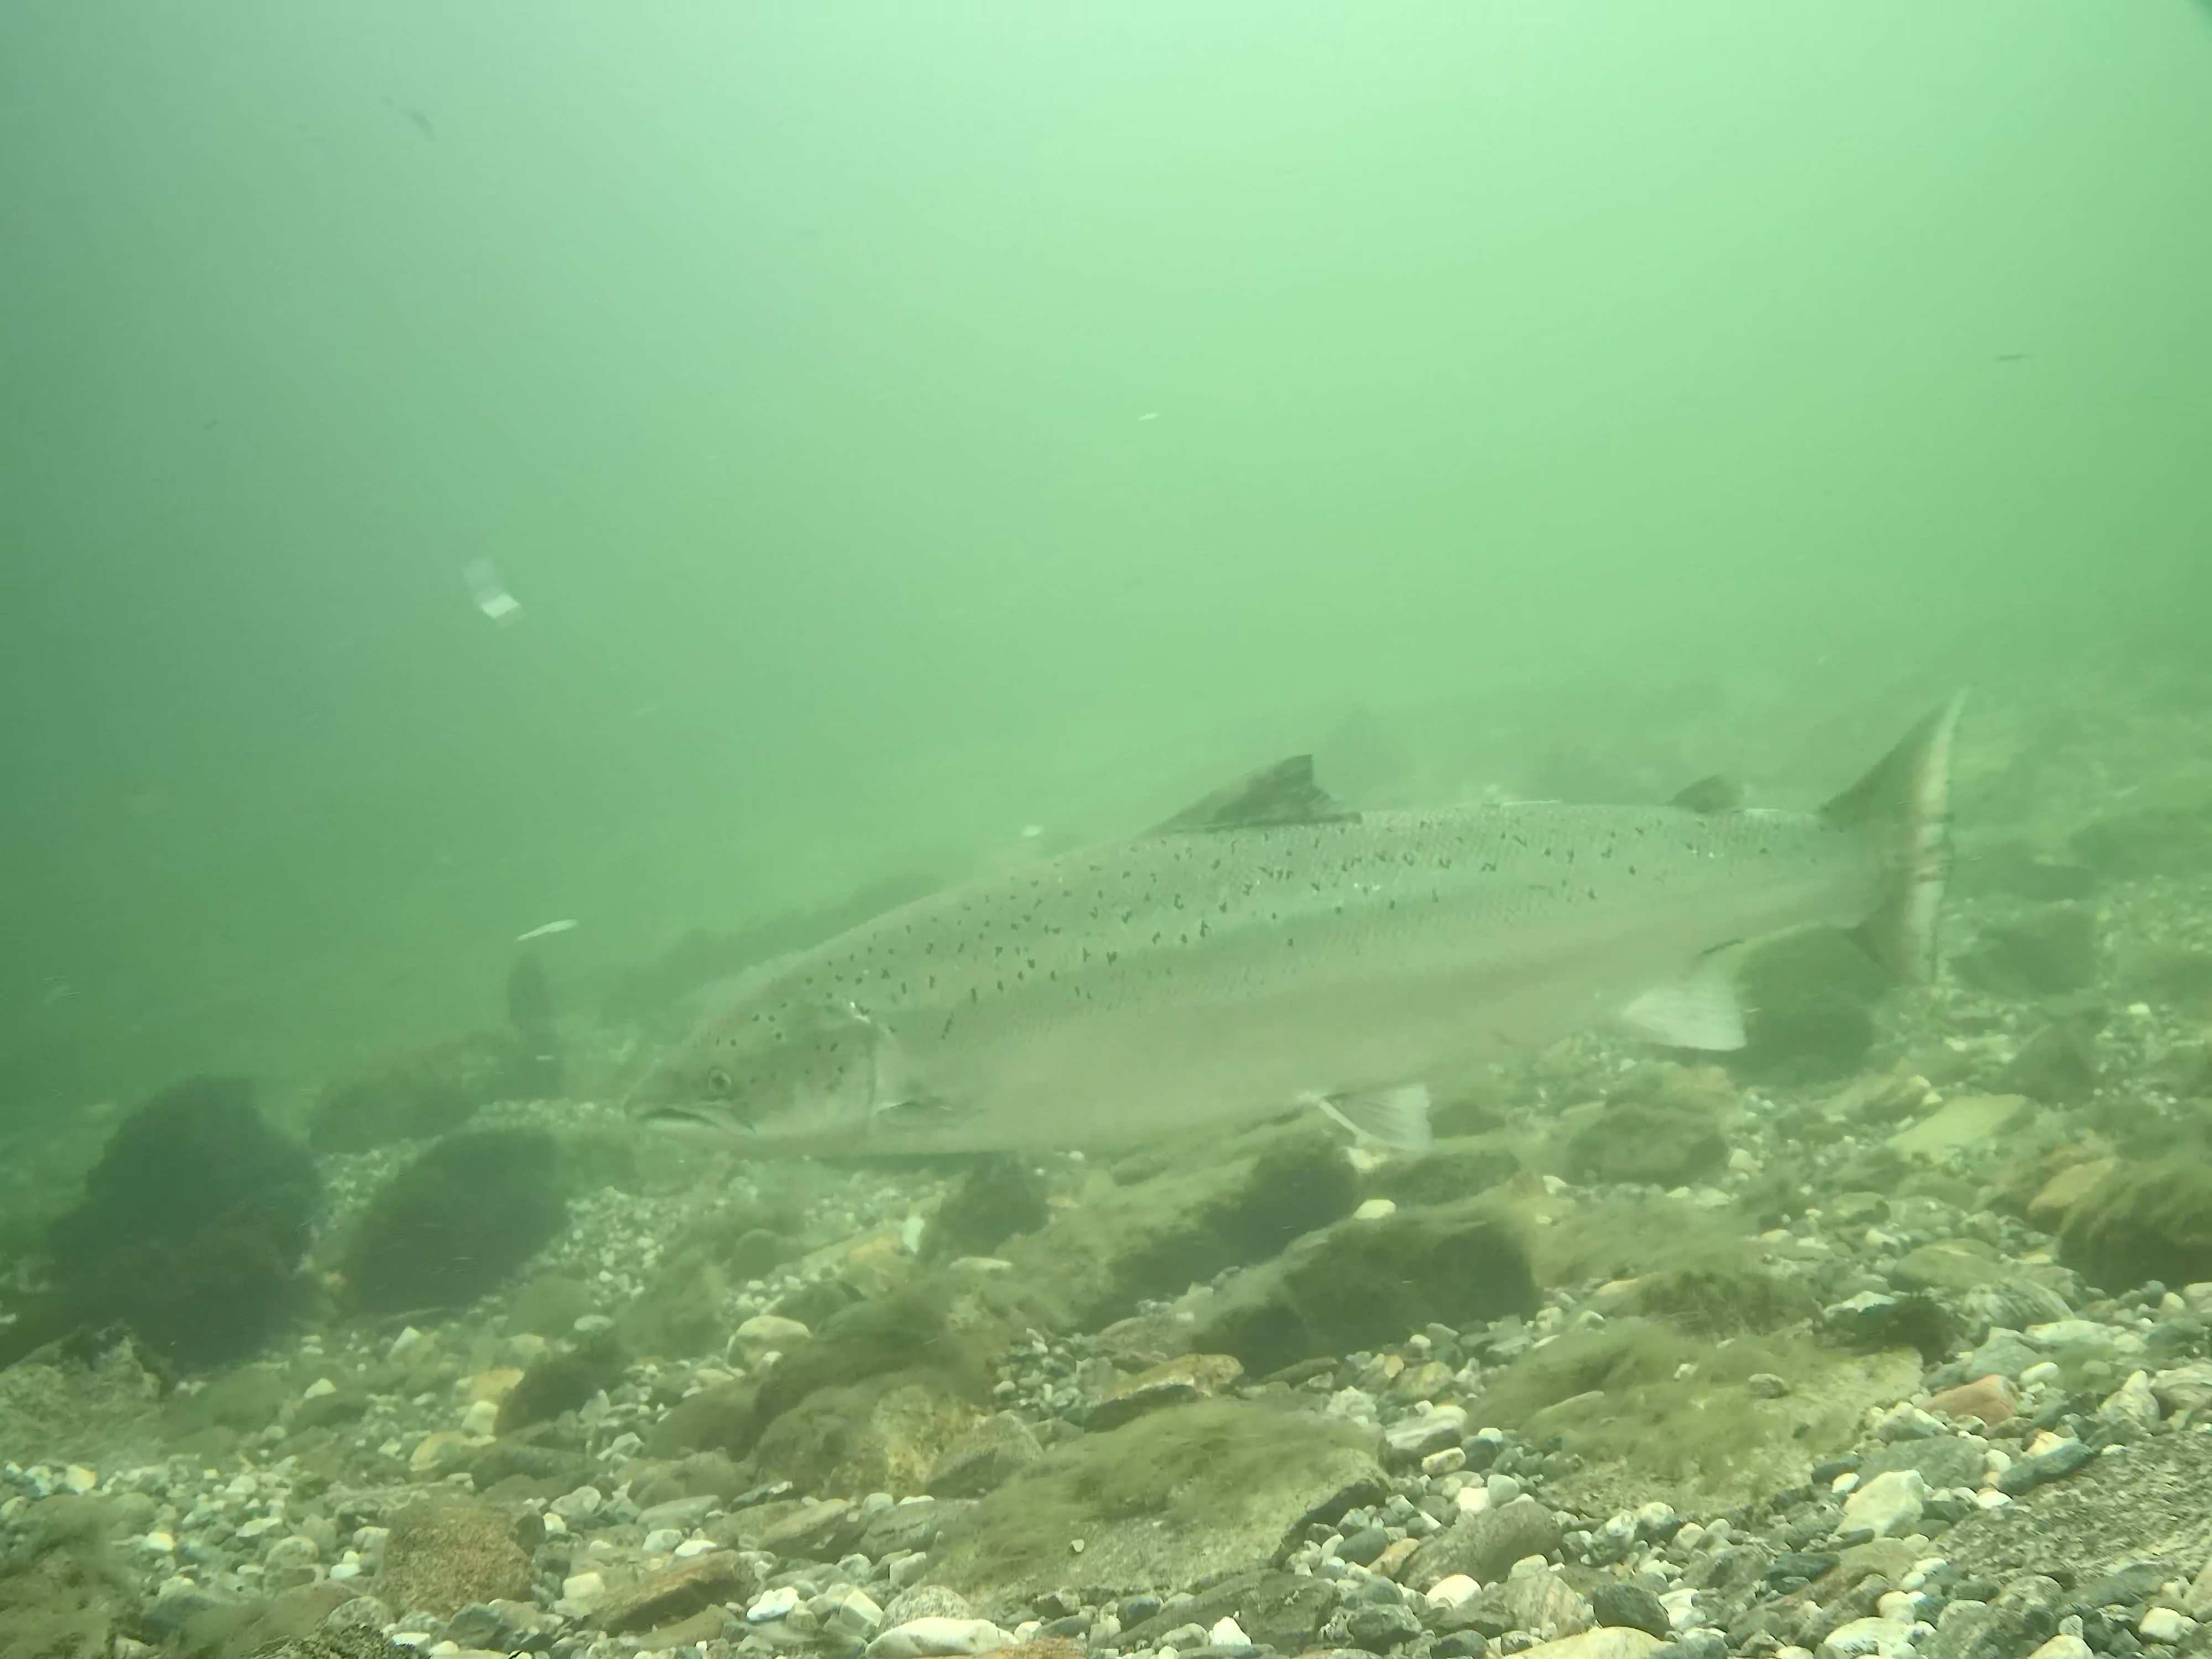salmon: (620, 685, 1966, 1164)
